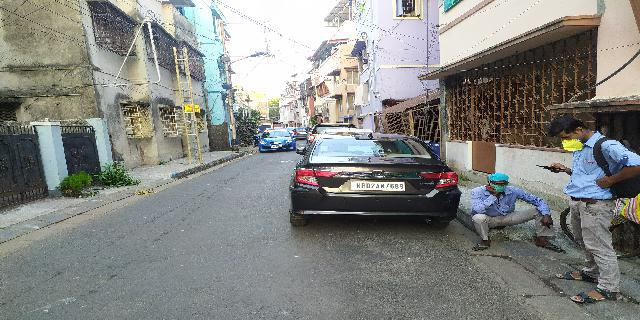Car: (289, 114, 461, 243), (260, 126, 292, 156)
